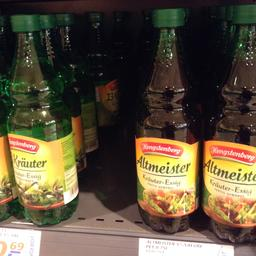vinegar: (132, 6, 202, 232), (6, 12, 79, 222), (202, 4, 255, 242)
